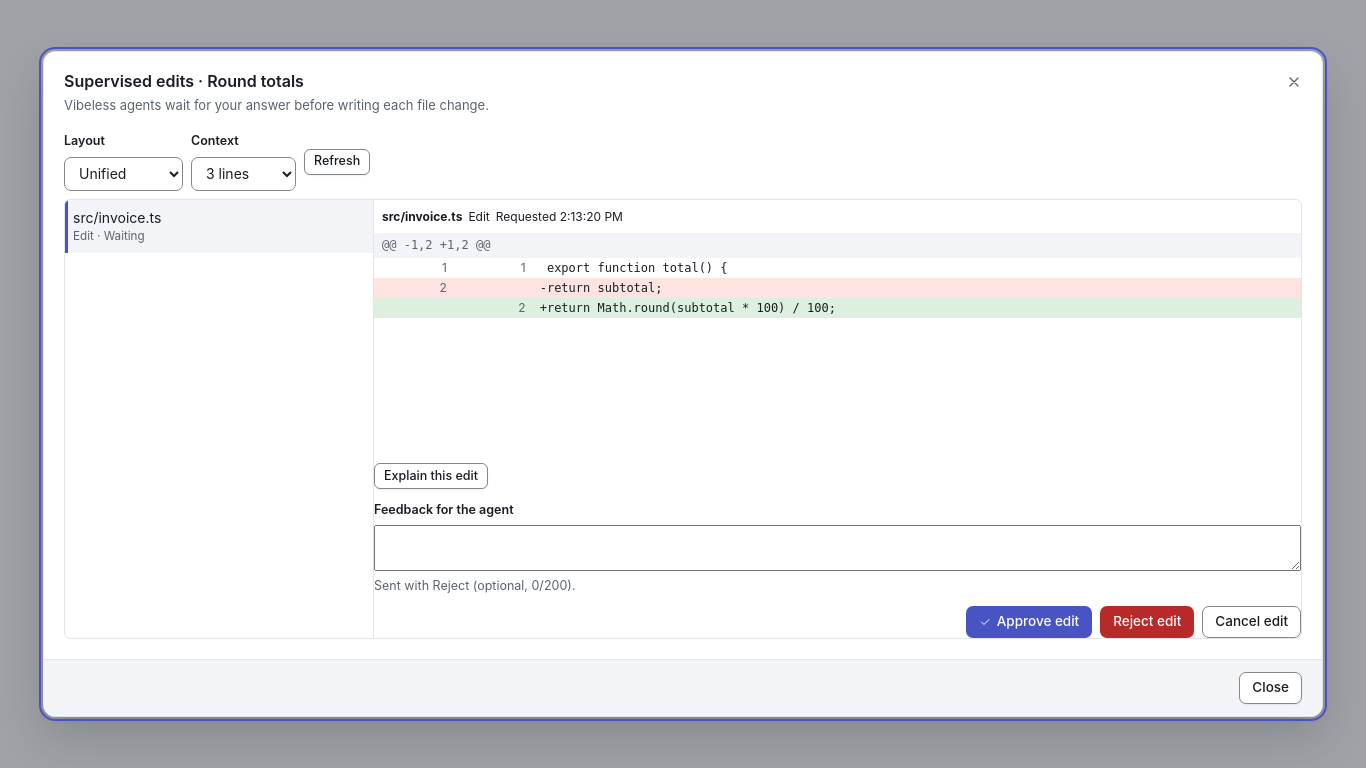
Test: keeps rejection feedback after a refused answer and reports the conflict
Expected: the text "-return subtotal;" is shown, left=540, top=281, right=662, bottom=295
Step 1. Type "  Keep raw totals; café 🧾  " into the text box labelled "Feedback for the agent" → (838, 548), box left=374, top=525, right=1301, bottom=572
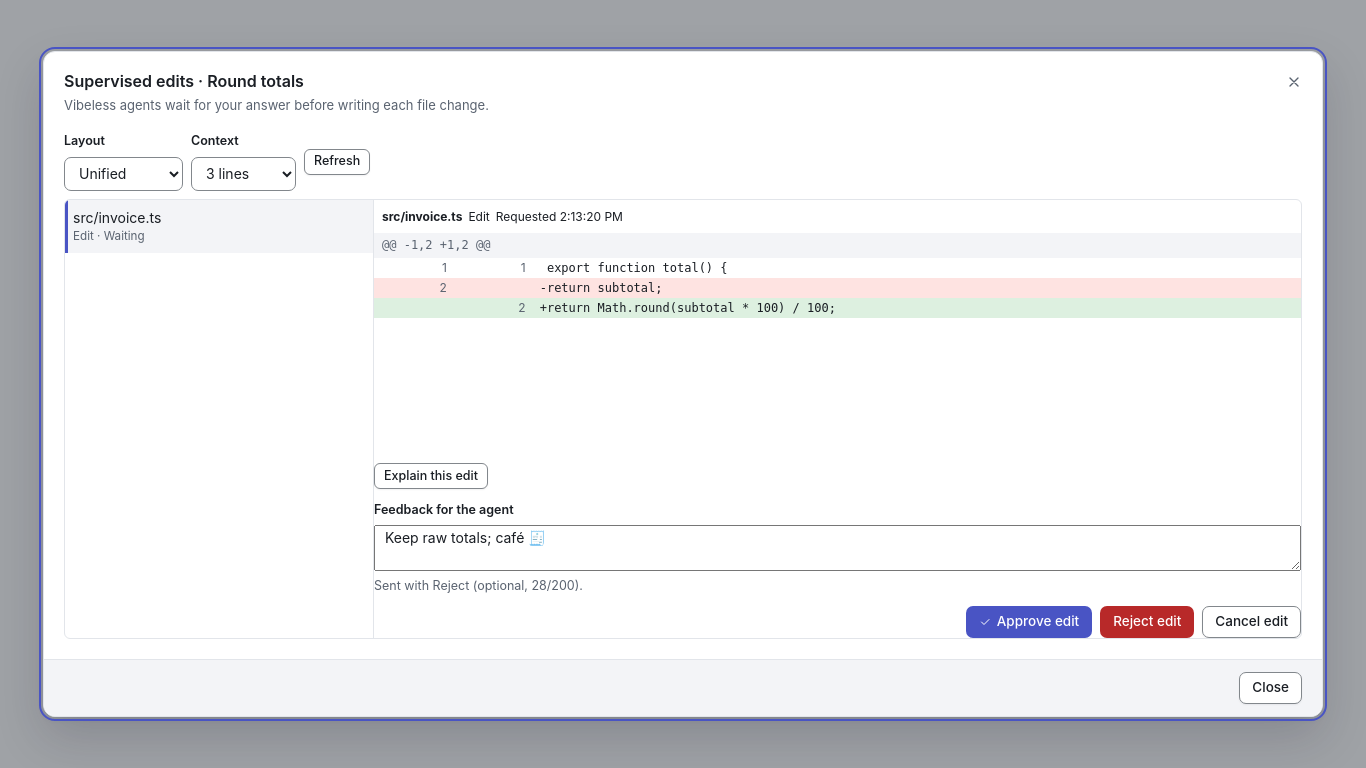
Step 2. Click the button "Reject edit" → click(1147, 622), box left=1100, top=606, right=1194, bottom=638
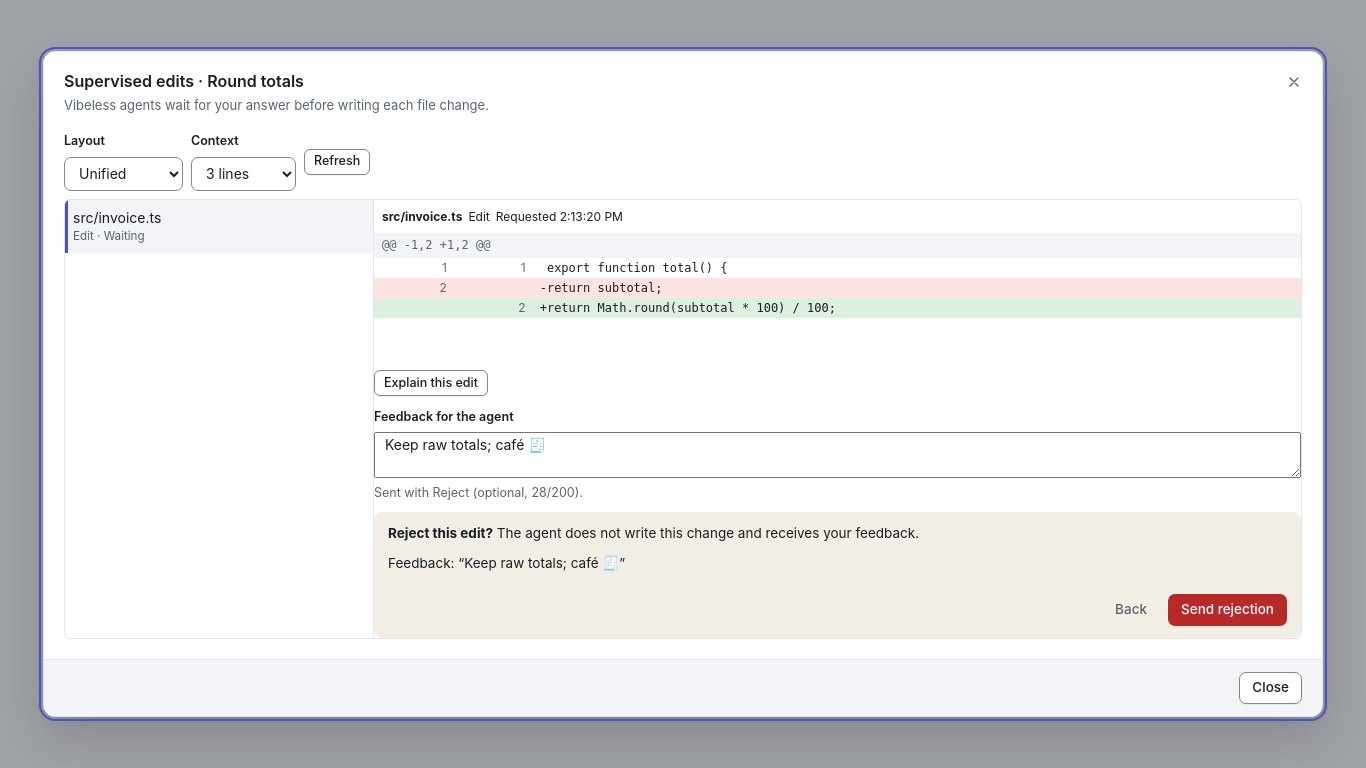
Result: the text "Keep raw totals; café 🧾" is shown at left=458, top=555, right=625, bottom=571
Step 3. Click the button "Send rejection" → click(1228, 610), box left=1168, top=594, right=1287, bottom=626
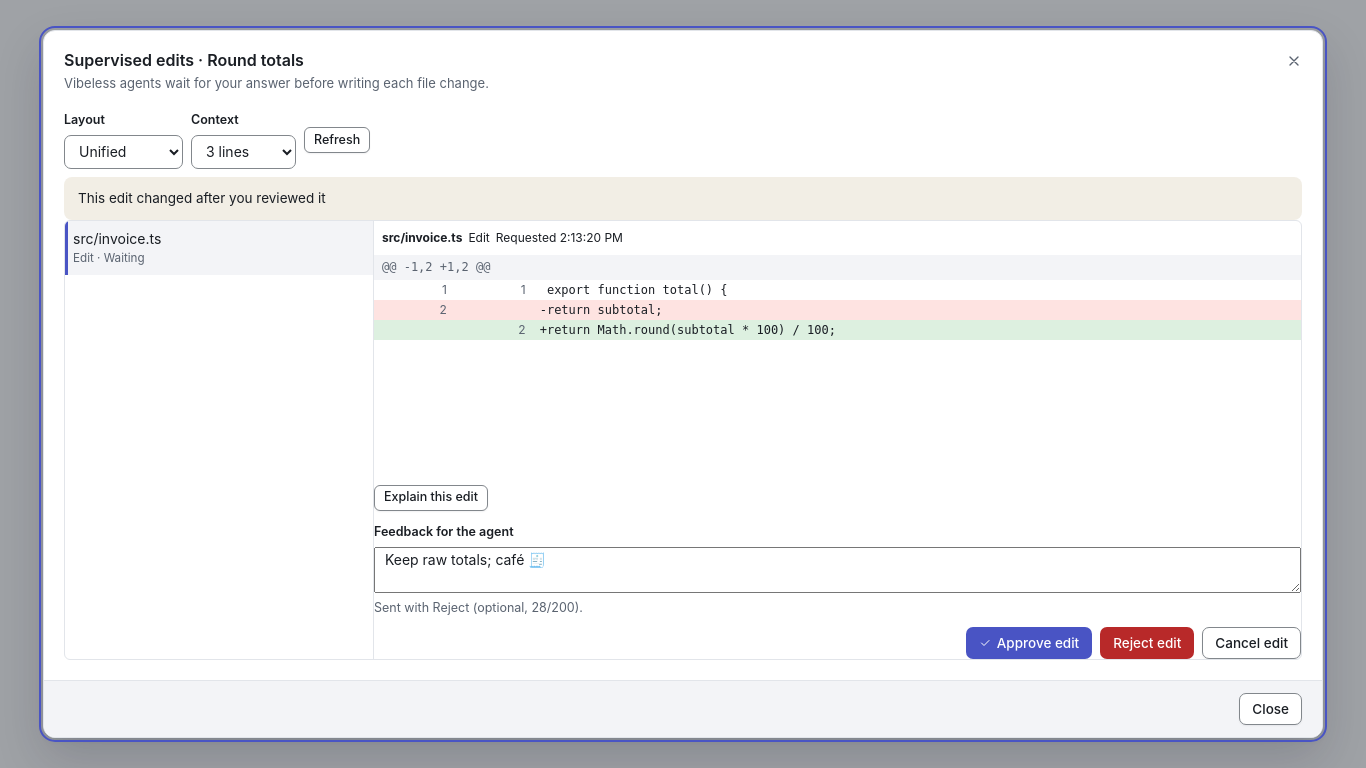
Result: the message "This edit changed after you reviewed it" is shown at left=64, top=177, right=1302, bottom=220
Result: the message shows "changed after you reviewed it" at left=78, top=190, right=326, bottom=206
